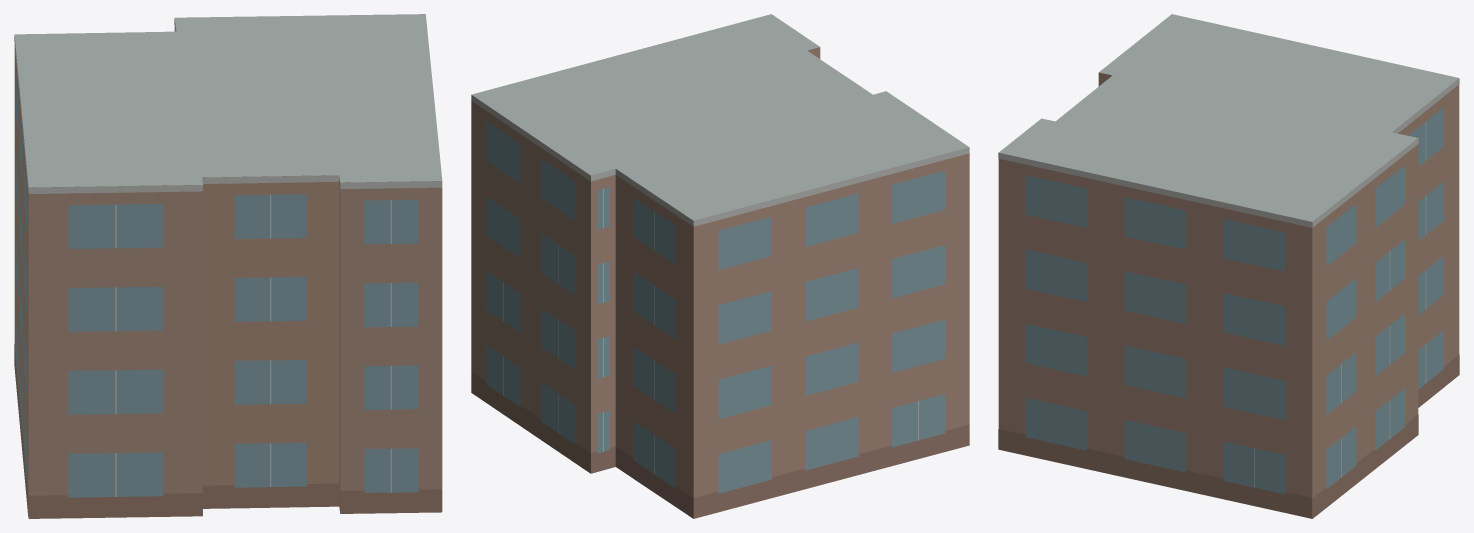
File: survey-upis-32888851.glb
3 renders of one model, left to right at view 1: azimuth 30°, elevation 25°; view 2: azimuth 150°, elevation 25°; view 3: azimuth 270°, elevation 25°, orthographic. The views are drawn at different scales.
Parts seen in each view (by area): view 1: survey-upis-32888851.tmp; view 2: survey-upis-32888851.tmp; view 3: survey-upis-32888851.tmp.
Part boxes in pixels (left/top/right/bottom): survey-upis-32888851.tmp: left=14, top=14, right=442, bottom=518; survey-upis-32888851.tmp: left=471, top=14, right=969, bottom=518; survey-upis-32888851.tmp: left=998, top=14, right=1459, bottom=518.
Bounding box in the file's own units: 18.34 × 12.2 × 17.17.
